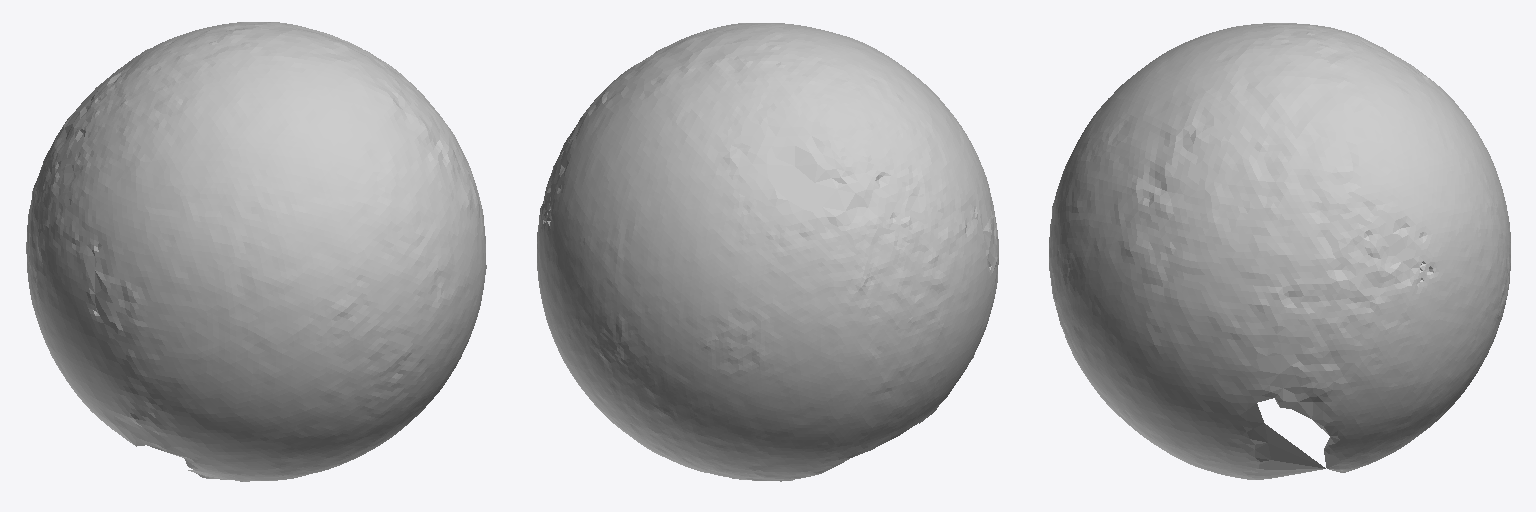
File: Gridtest_2_1_2.000001.obj
3 renders of one model, left to right at view 1: azimuth 30°, elevation 25°; view 2: azimuth 150°, elevation 25°; view 3: azimuth 270°, elevation 25°, orthographic.
Bounding box in the file's own units: 299 × 304 × 300.